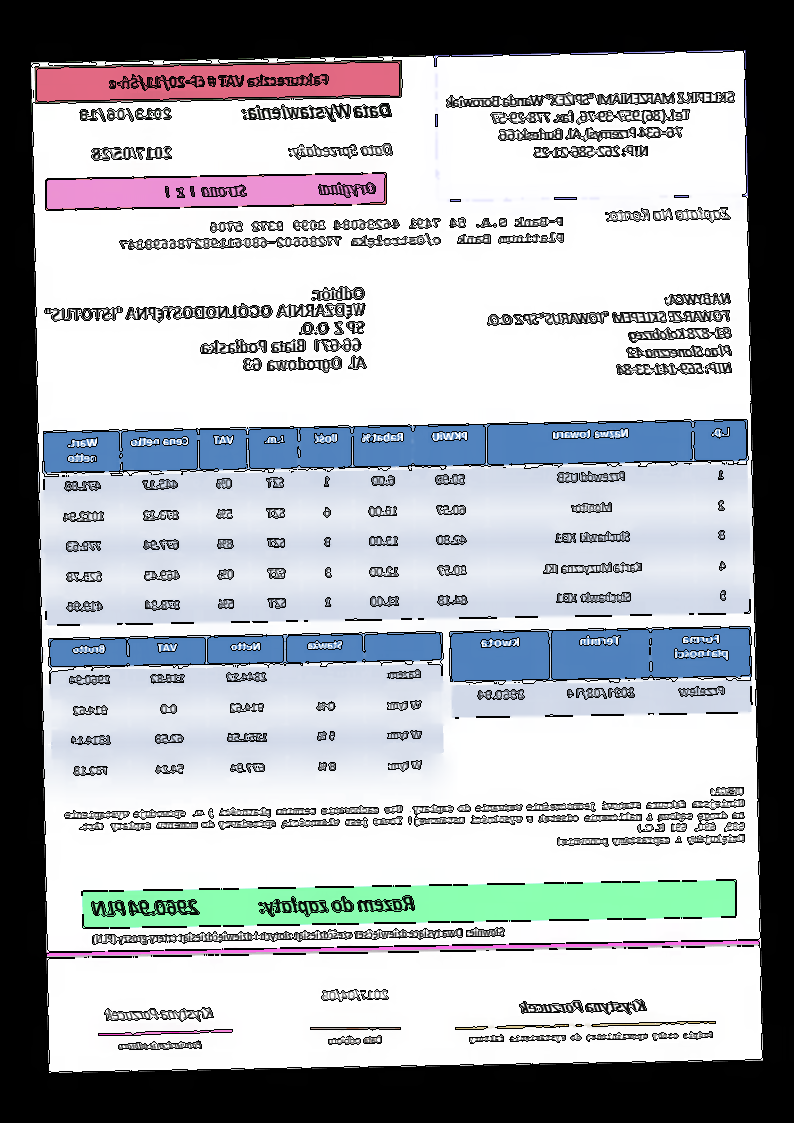Table: (41, 419, 752, 628), (46, 631, 446, 790), (450, 626, 754, 719)
TextBox: (63, 784, 749, 859), (42, 285, 368, 379), (482, 291, 736, 381), (445, 85, 738, 163), (116, 212, 567, 255), (90, 924, 507, 948), (90, 893, 418, 920), (468, 1027, 716, 1048), (107, 70, 330, 93), (160, 179, 376, 201), (240, 100, 393, 125), (602, 205, 733, 226), (517, 998, 648, 1019), (102, 1003, 216, 1025), (287, 142, 394, 161), (79, 105, 173, 126), (320, 983, 391, 1005), (92, 145, 173, 163), (116, 1039, 204, 1053), (325, 1032, 384, 1047)
